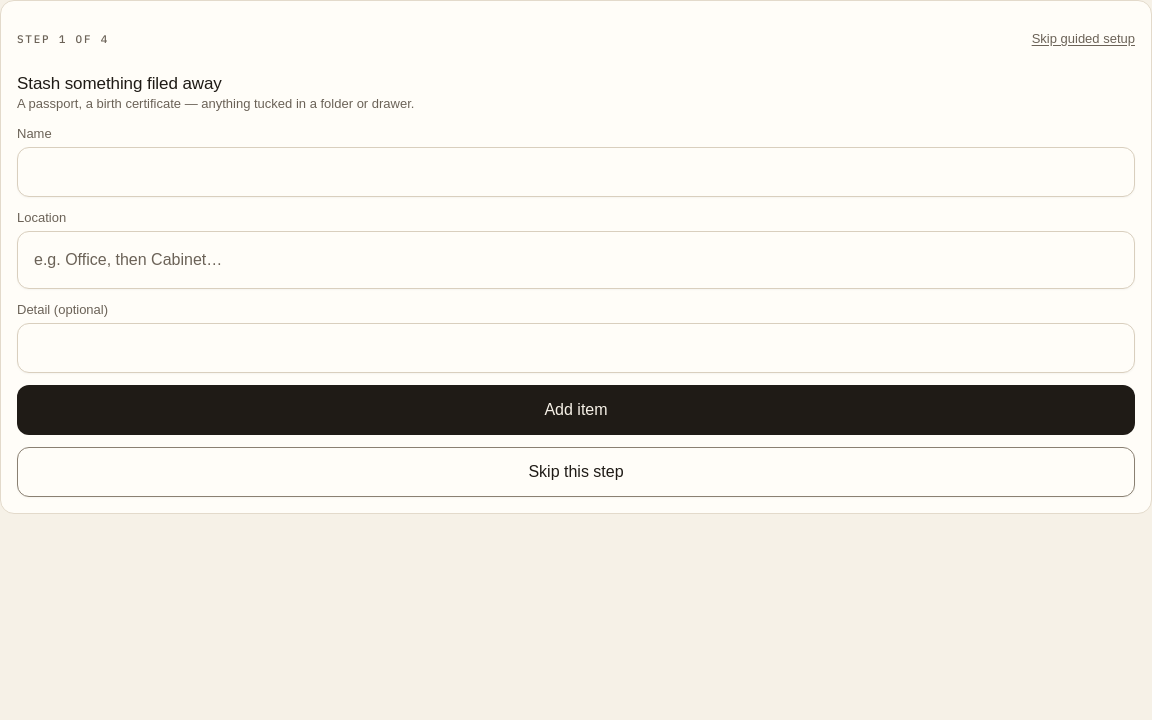
Test case: a stash shows a plain confirmation with only Continue — no competing View item / Add another / Back to home
In the field labelled "Name": {"x": 576, "y": 172} top-left (17, 147), bottom-right (1135, 197), type "Passport"
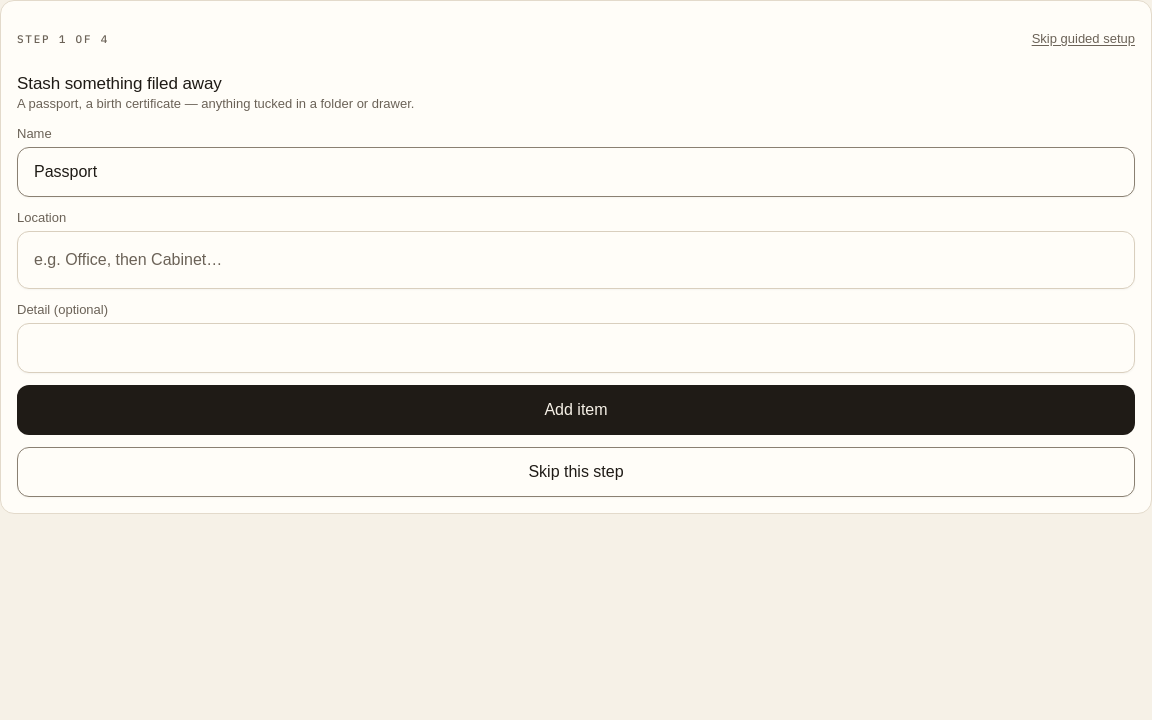
In the dropdown: {"x": 576, "y": 260} top-left (30, 238), bottom-right (1122, 282), type "Closet"
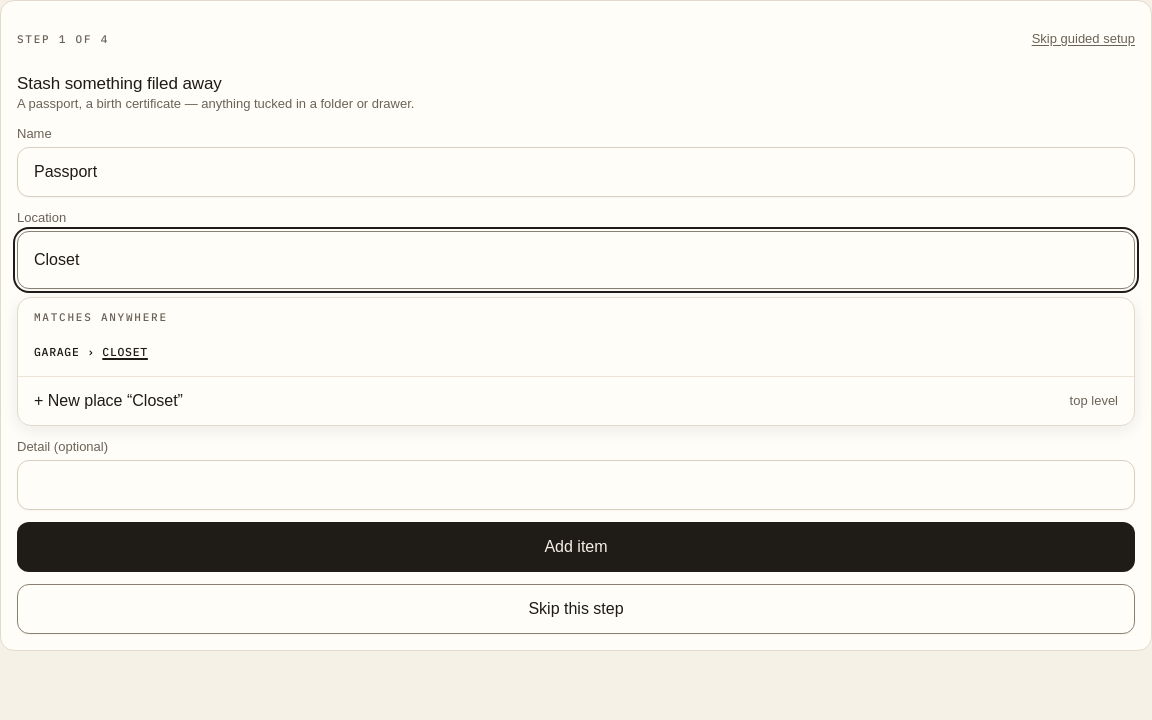
Press Arrowdown Enter
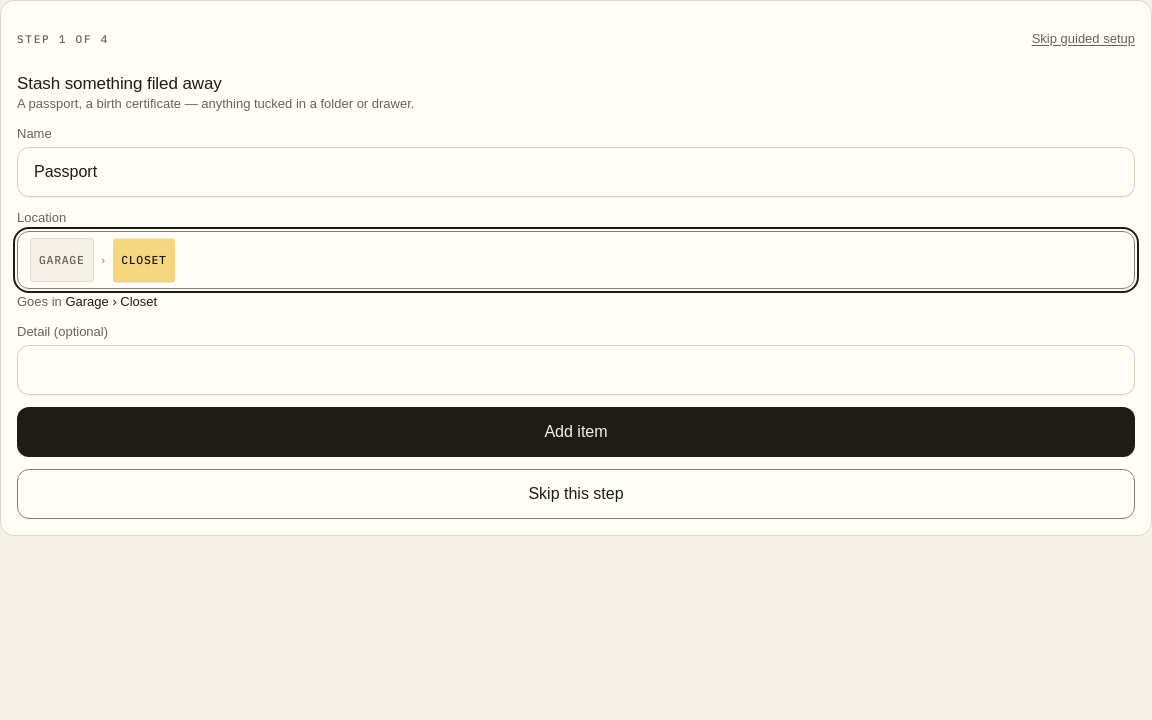
Click the button "Add item": {"x": 576, "y": 432} top-left (17, 407), bottom-right (1135, 457)
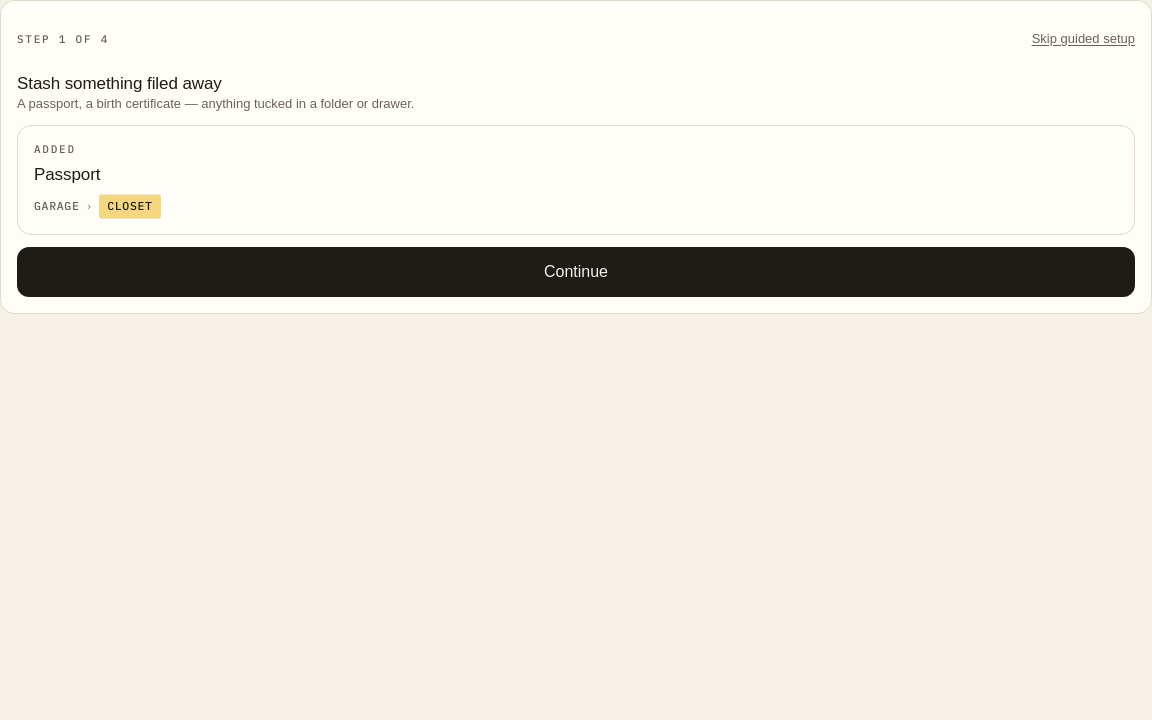
Expected: the button "Continue" is shown, top-left (17, 247), bottom-right (1135, 297)
Expected: the message shows "Passport", top-left (34, 165), bottom-right (100, 184)
